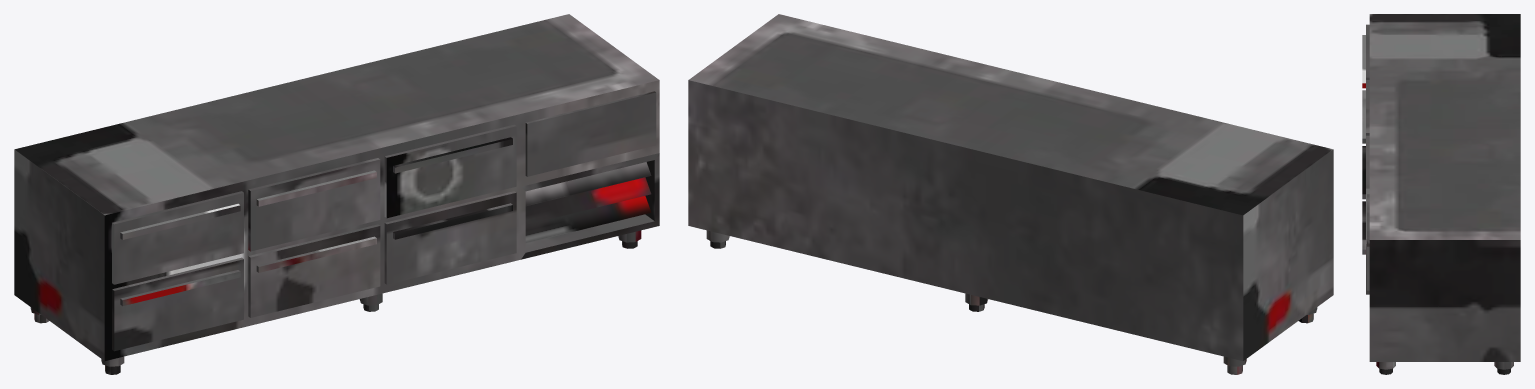
The model's file is prep-counter.glb.
3 renders of one model, left to right at view 1: azimuth 30°, elevation 25°; view 2: azimuth 150°, elevation 25°; view 3: azimuth 270°, elevation 25°, orthographic. The views are drawn at different scales.
Parts seen in each view (by area): view 1: SM_KitchenCounter_Kitchen_0; view 2: SM_KitchenCounter_Kitchen_0; view 3: SM_KitchenCounter_Kitchen_0.
Part boxes in pixels (<box>): SM_KitchenCounter_Kitchen_0: <box>14,14,659,374</box>; SM_KitchenCounter_Kitchen_0: <box>688,14,1333,374</box>; SM_KitchenCounter_Kitchen_0: <box>1362,14,1520,374</box>.
Bounding box in the file's own units: 2.77 × 0.8015 × 0.8201.
Materials: 1 (1 with a texture image).
